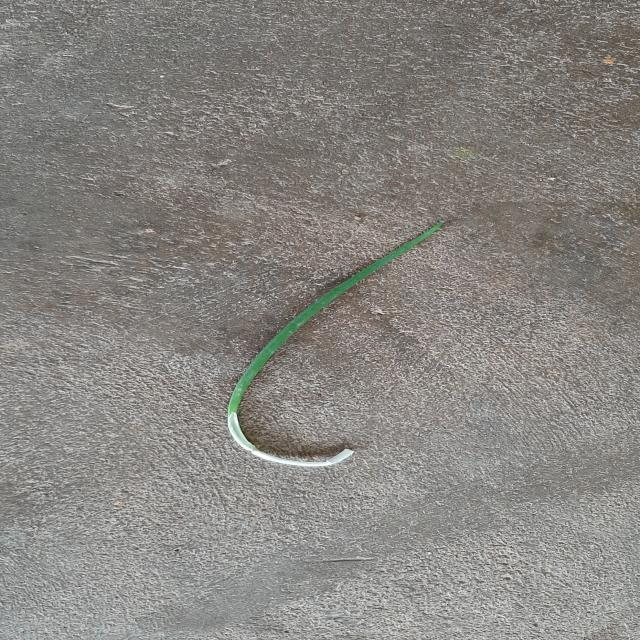onion: (228, 222, 442, 468)
